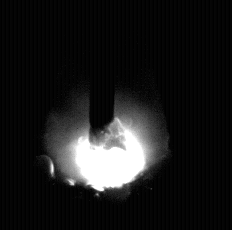arame: (90, 0, 116, 145)
poca: (44, 0, 169, 230)
